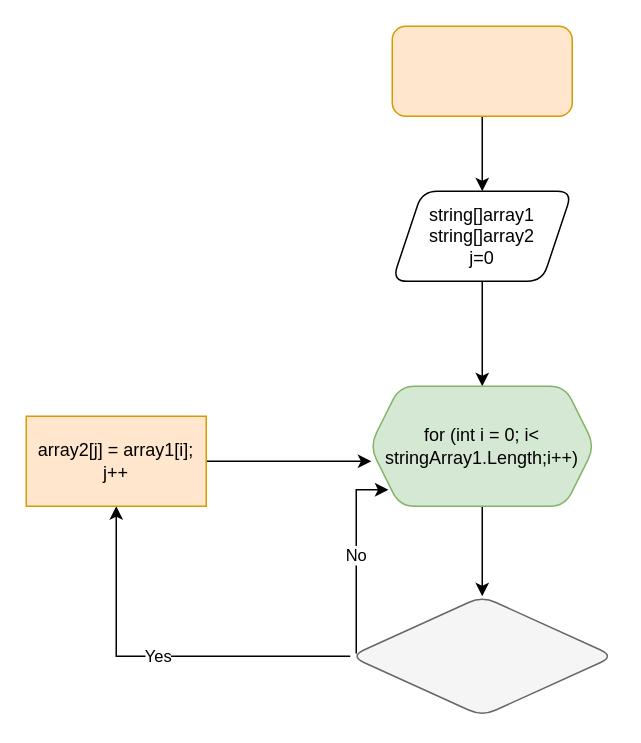
The diagram is 641 pixels wide and 743 high, and some of its shapes have lost their labels. Each missing label, with the box of its shape:
ArrayLess3: (391, 25, 572, 116)
if(stringArray1[i].Length <=3: (349, 595, 614, 716)
